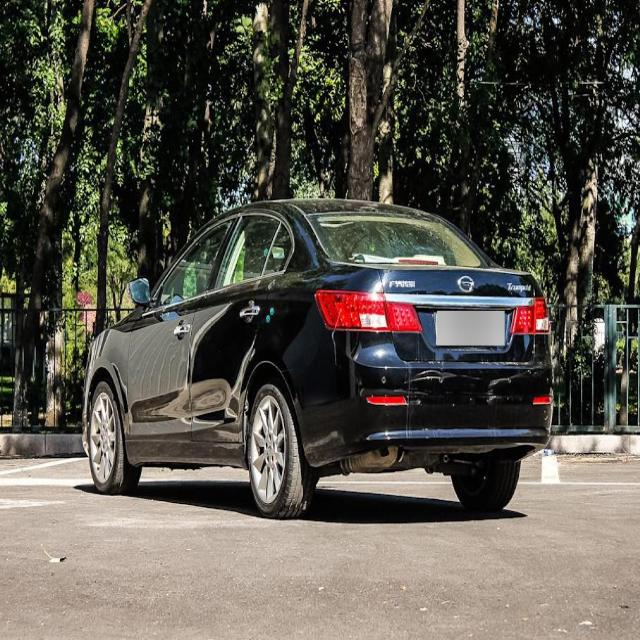back_glass: (304, 209, 486, 269)
back_left_side_light: (314, 288, 424, 334)
back_right_side_light: (509, 294, 552, 338)
door: (192, 216, 297, 445)
front_left_side_door: (125, 210, 239, 443)
front_left_side_mirror: (126, 275, 152, 306)
rear_bumper: (292, 327, 554, 467)
wheel: (248, 384, 310, 518), (88, 382, 143, 493), (448, 456, 522, 508)
